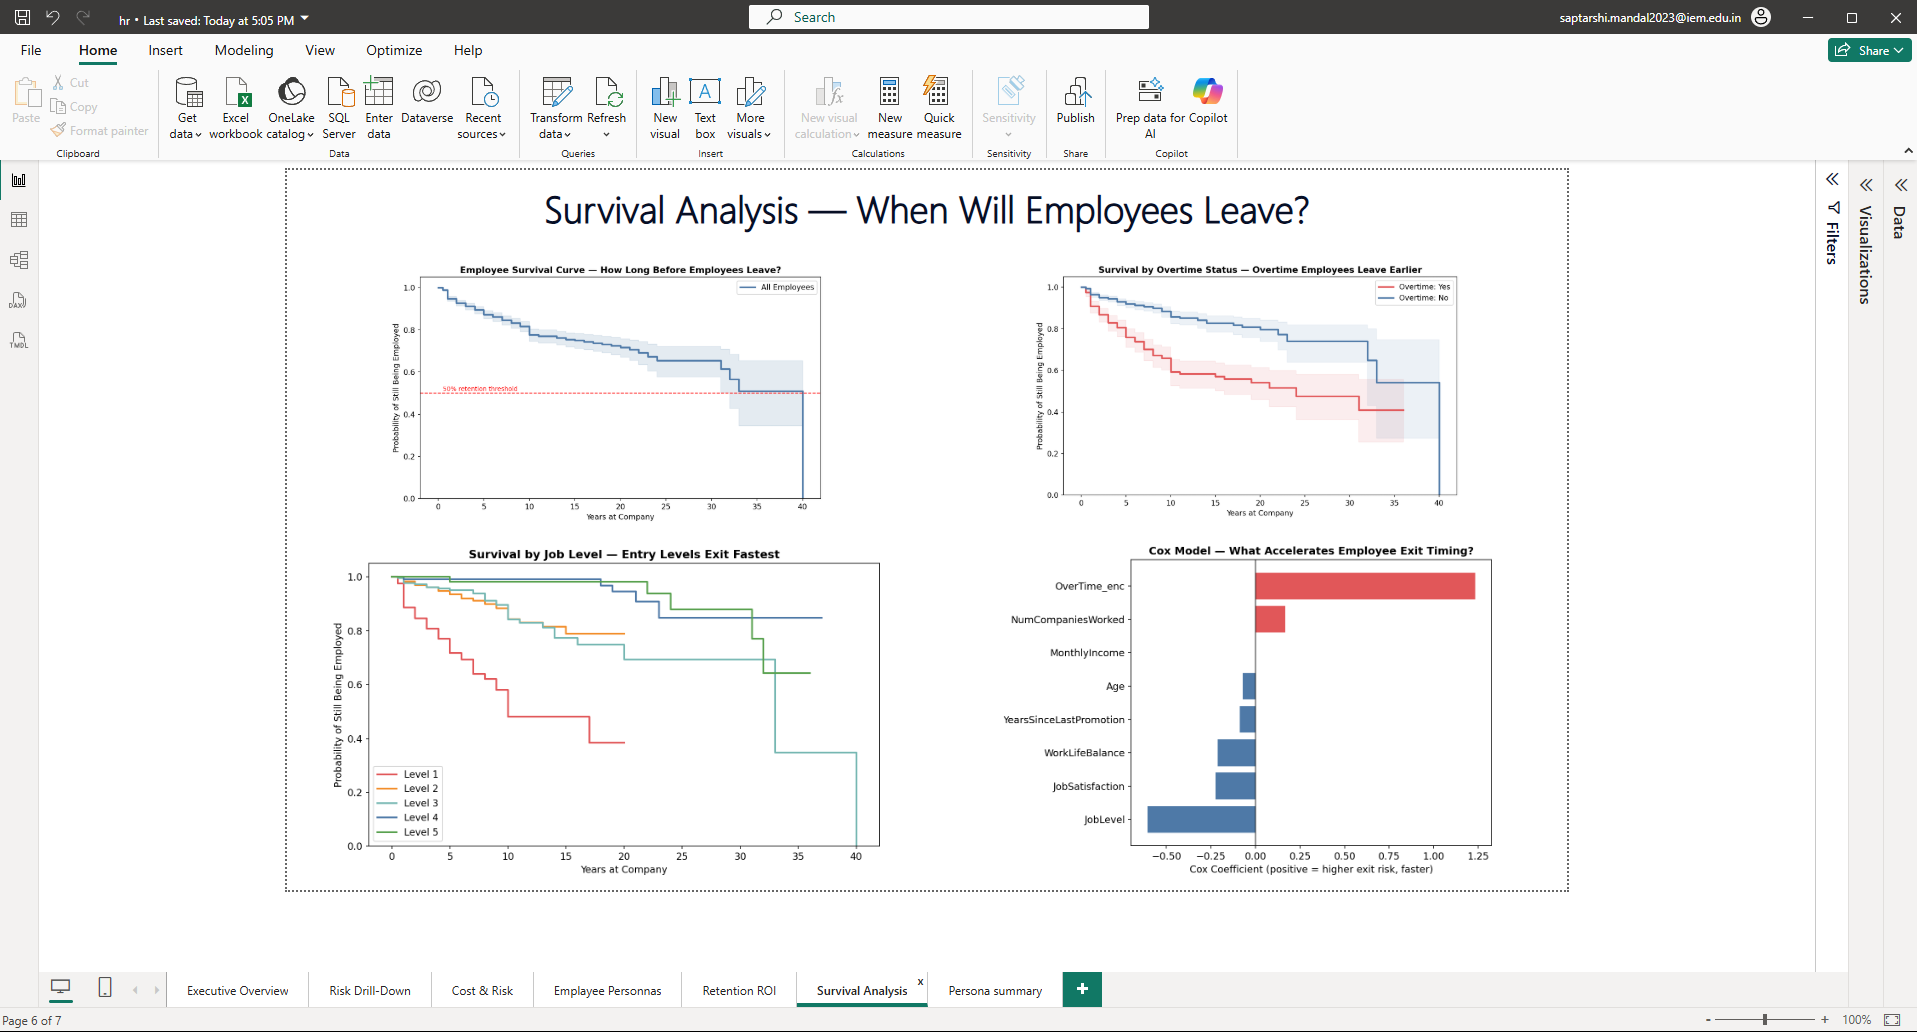

This screenshot's page, from the dashboard's own definition file:
{"tool":"powerbi","page":{"name":"Survival Analysis","canvas":[1280,720],"ordinal":5},"visuals":[{"type":"image","box":[0,83.3,640,281.1],"z":0},{"type":"image","box":[640,360,640,360],"z":1000},{"type":"image","box":[0,364.4,640,355.6],"z":2000},{"type":"image","box":[640,83.3,640,276.7],"z":3000},{"type":"textbox","box":[0,7.8,1280,75.6],"z":4000}]}

Visuals, with their boxes on the page's 1280x720 design canvas (x1, y1, x2, y2). These are canvas units, not pixel positions in the 1917x1032 screenshot, which may show the page scaled, cropped or inside an application window:
image: region(0, 83, 640, 364)
image: region(640, 360, 1280, 720)
image: region(0, 364, 640, 720)
image: region(640, 83, 1280, 360)
textbox: region(0, 8, 1280, 83)
